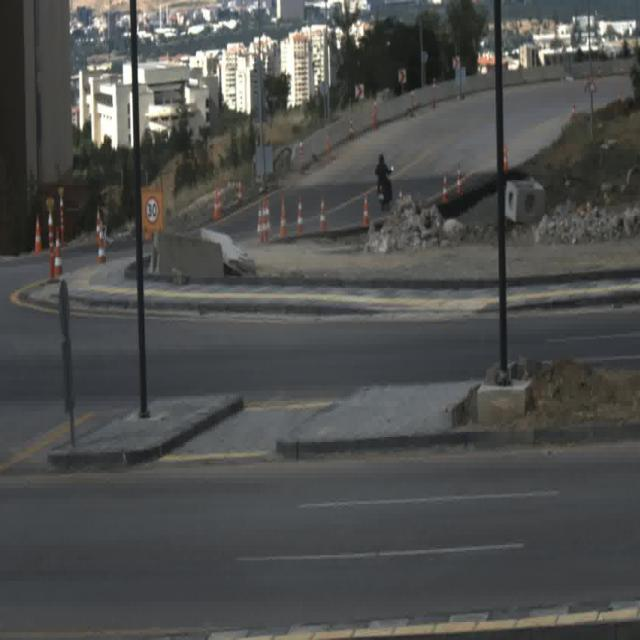Motorcycle: (374, 146, 394, 210)
